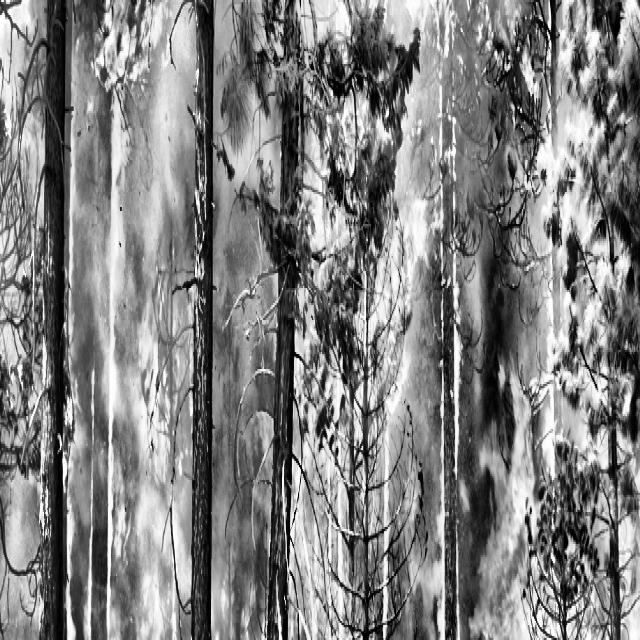fire: (216, 0, 640, 640), (7, 0, 225, 640)
